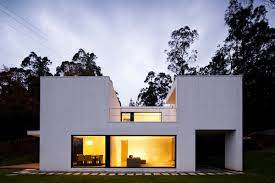private_hause: (38, 74, 244, 175)
